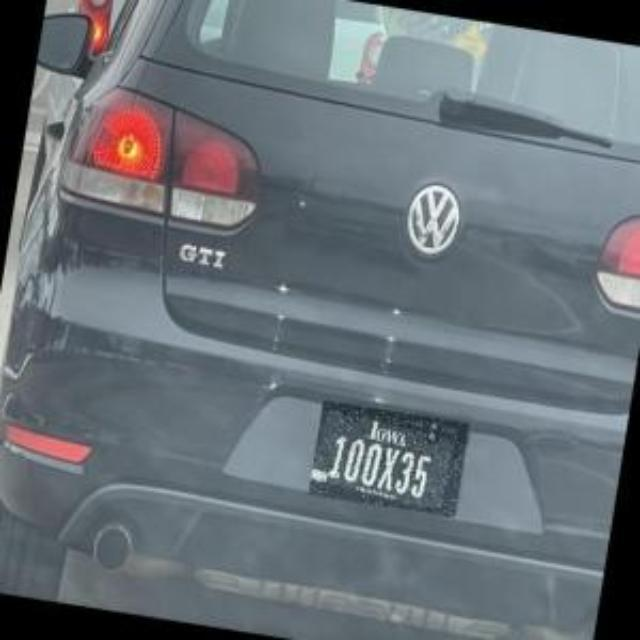License Plate: (310, 395, 470, 512)
